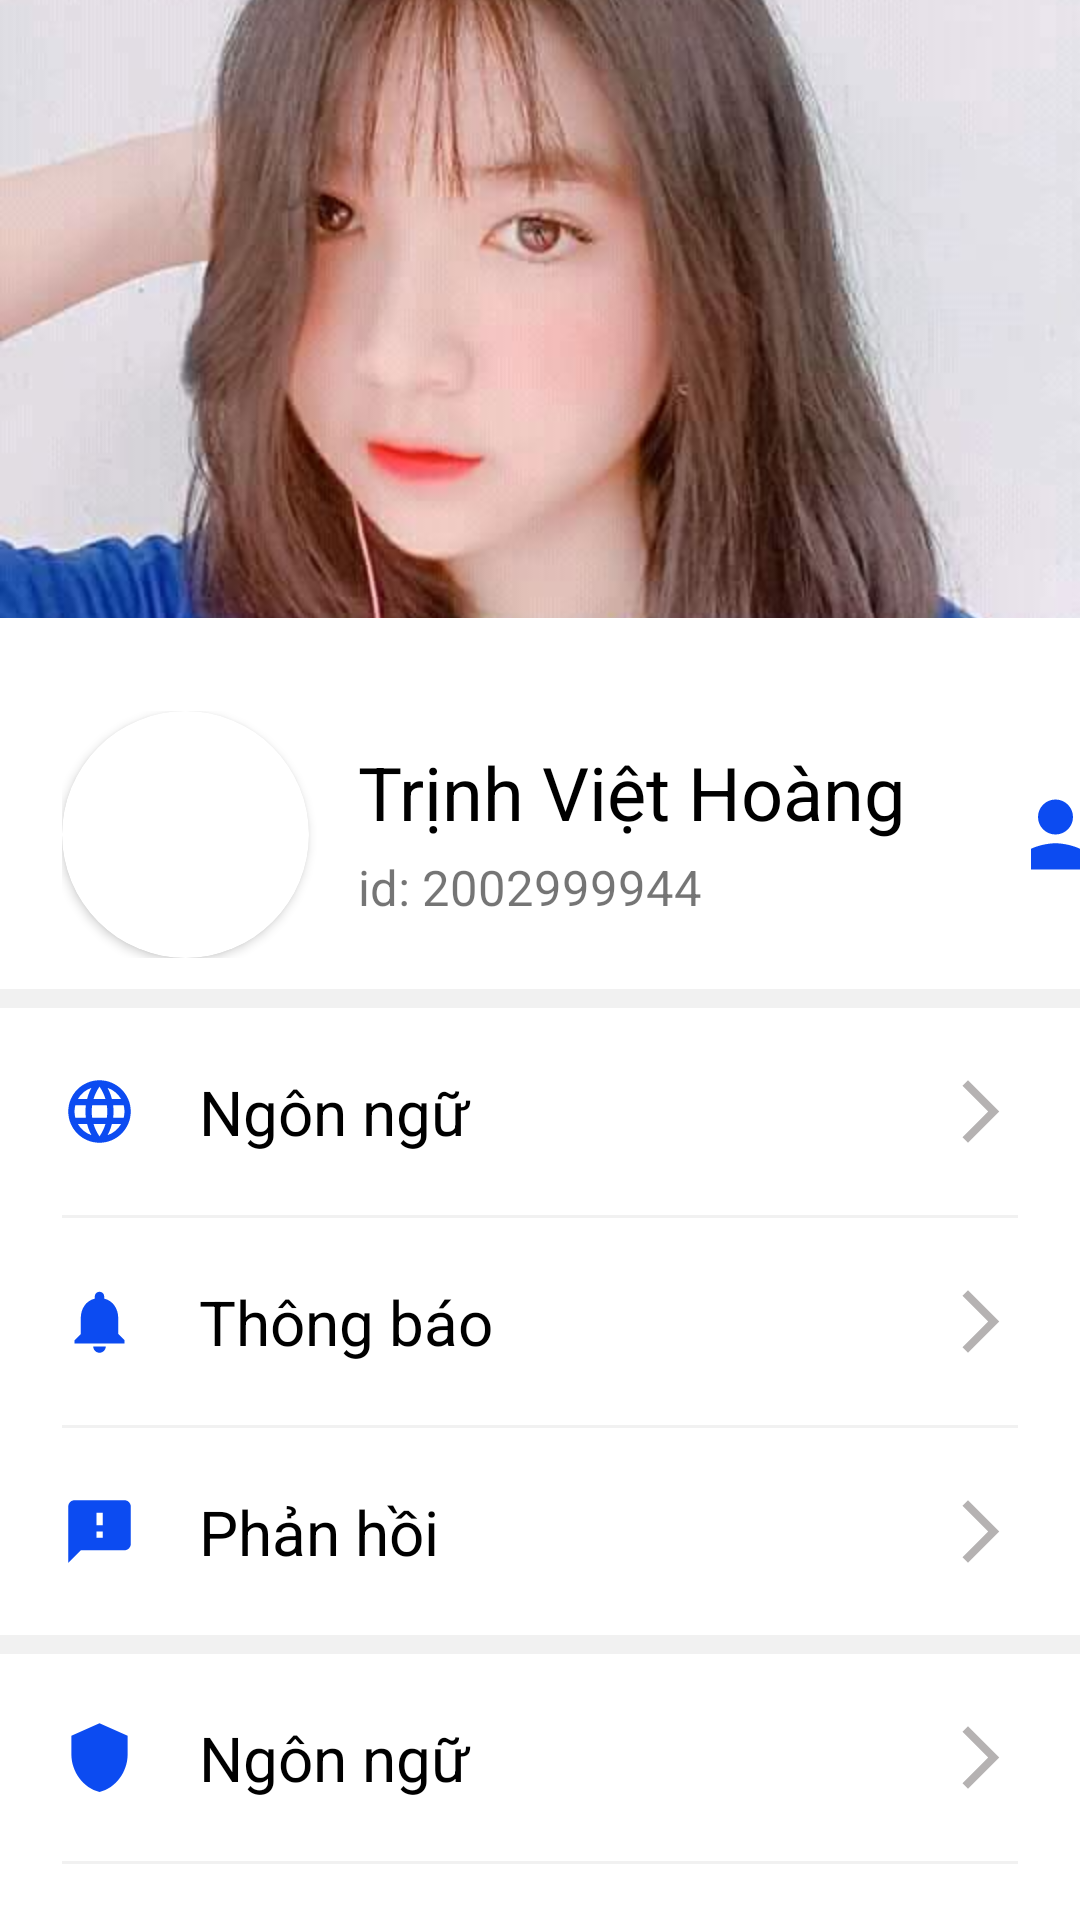

Where to tap for icons on this 1080w x 1920h app screen, as point (x, y):
arrow forward: point (981, 1111), point (981, 1321), point (981, 1531), point (981, 1757)
feedback: point (99, 1531)
language: point (99, 1111)
notifications: point (99, 1322)
person: point (1055, 834)
shield: point (99, 1757)
